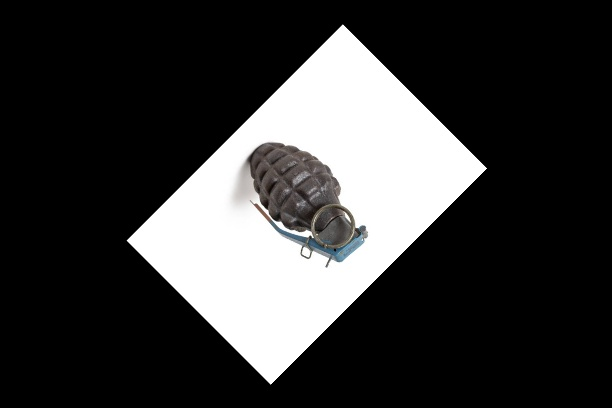e1: (245, 137, 369, 269)
